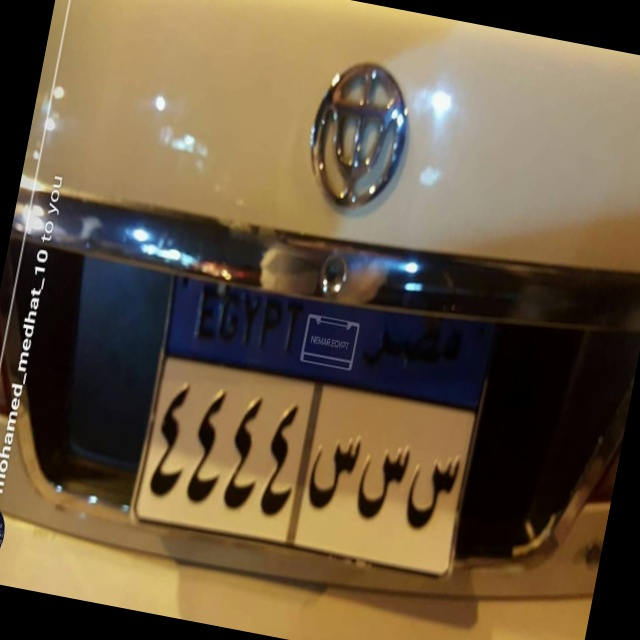License Plate: (116, 249, 507, 602)
